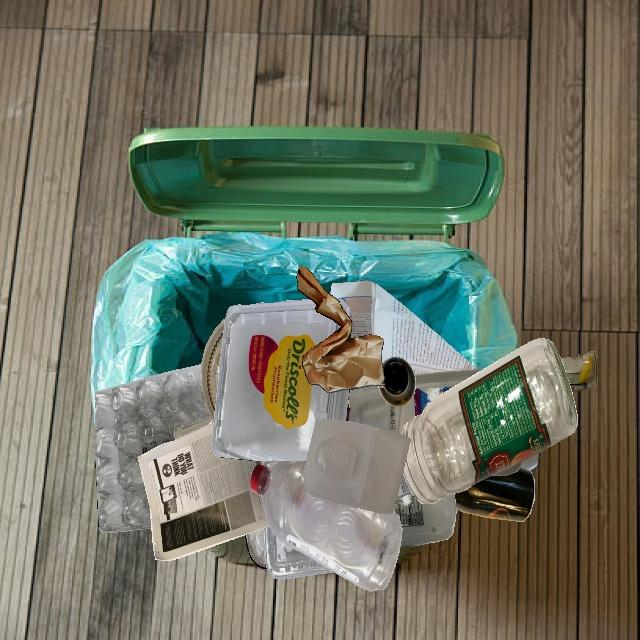glass: (400, 338, 578, 503), (454, 467, 534, 522), (201, 319, 225, 421), (378, 357, 416, 407), (561, 351, 597, 392), (174, 416, 213, 440), (396, 473, 412, 499)
metal: (261, 412, 348, 560)
paper: (349, 357, 530, 471), (138, 420, 270, 561), (297, 266, 385, 393), (330, 280, 428, 364)
plastic: (212, 303, 349, 461), (250, 461, 402, 591), (95, 364, 211, 533), (303, 419, 410, 514), (346, 369, 484, 434), (263, 526, 334, 579), (392, 493, 457, 547)
